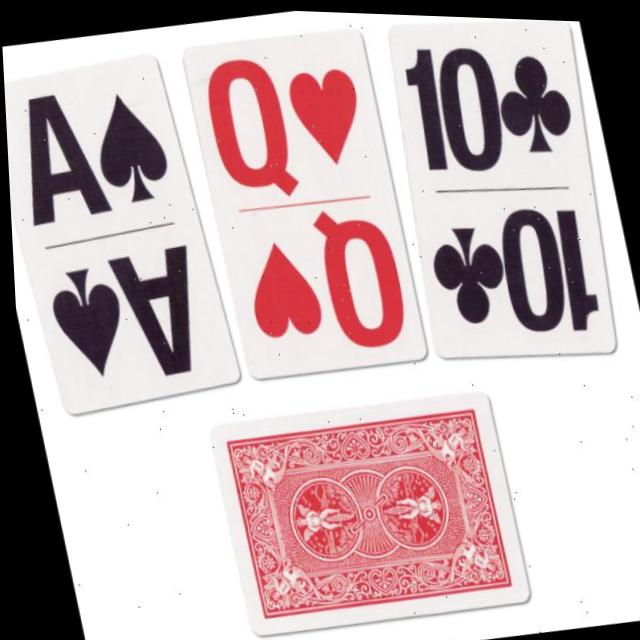Card-10: (391, 20, 612, 352)
Card-A: (4, 54, 233, 413)
Card-Q: (184, 27, 422, 378)
